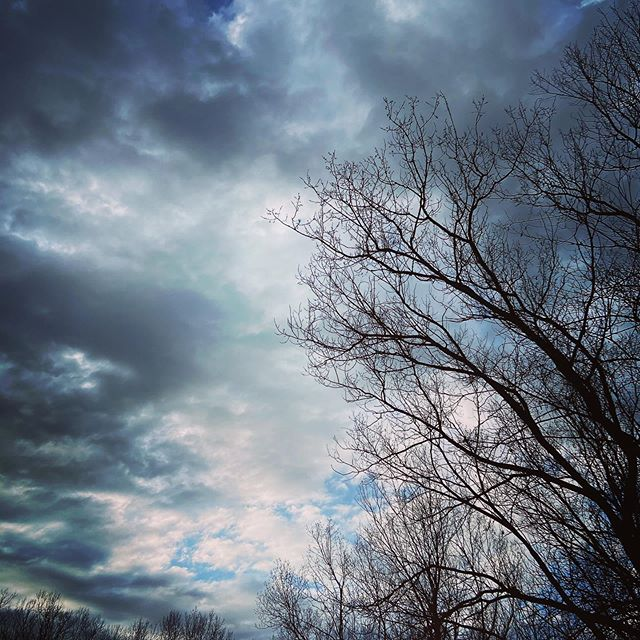sky: (6, 1, 518, 583)
tree: (335, 141, 640, 640)
